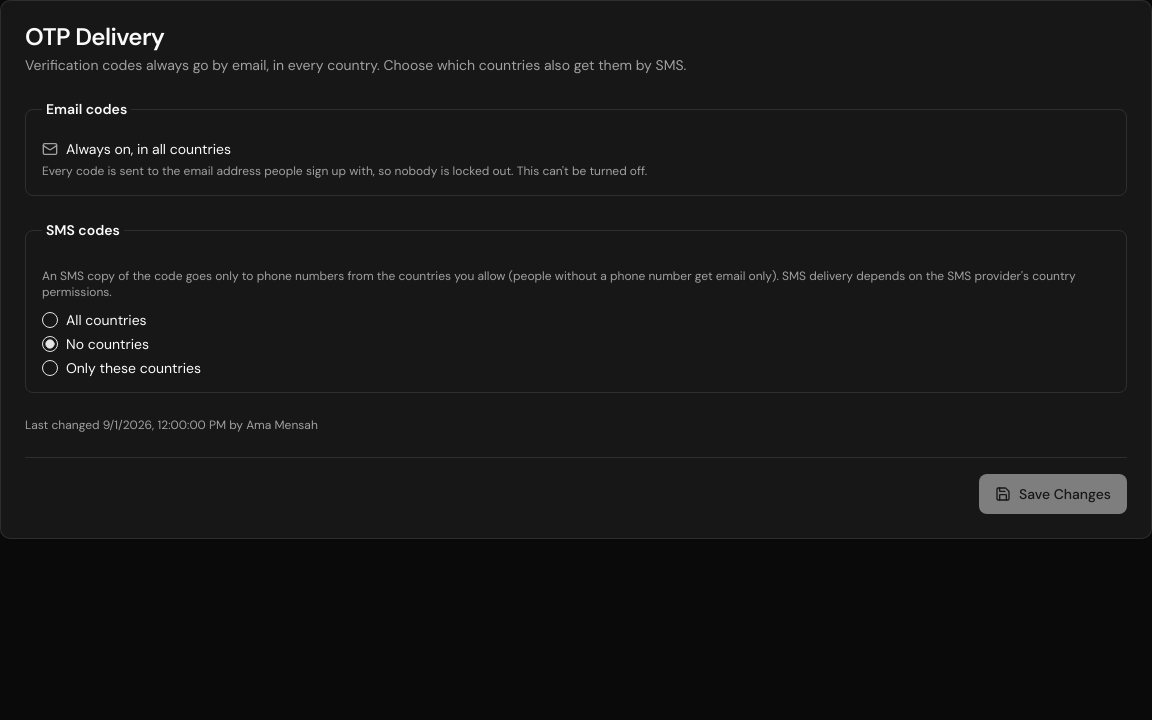
Test: OtpDeliverySettingsCard › saves an SMS change and always sends email ALL
This screenshot has width=1152, height=720.
Later steps or results of the test are not shown.
Expected: the text "Last changed 9/1/2026, 12:00:00 PM by Ama Mensah" is shown, [25, 417, 318, 433]
Click the radio button named "only these countries" next to "Only these countries" at {"x": 50, "y": 368}, box [42, 360, 58, 376]
(page scrolled)
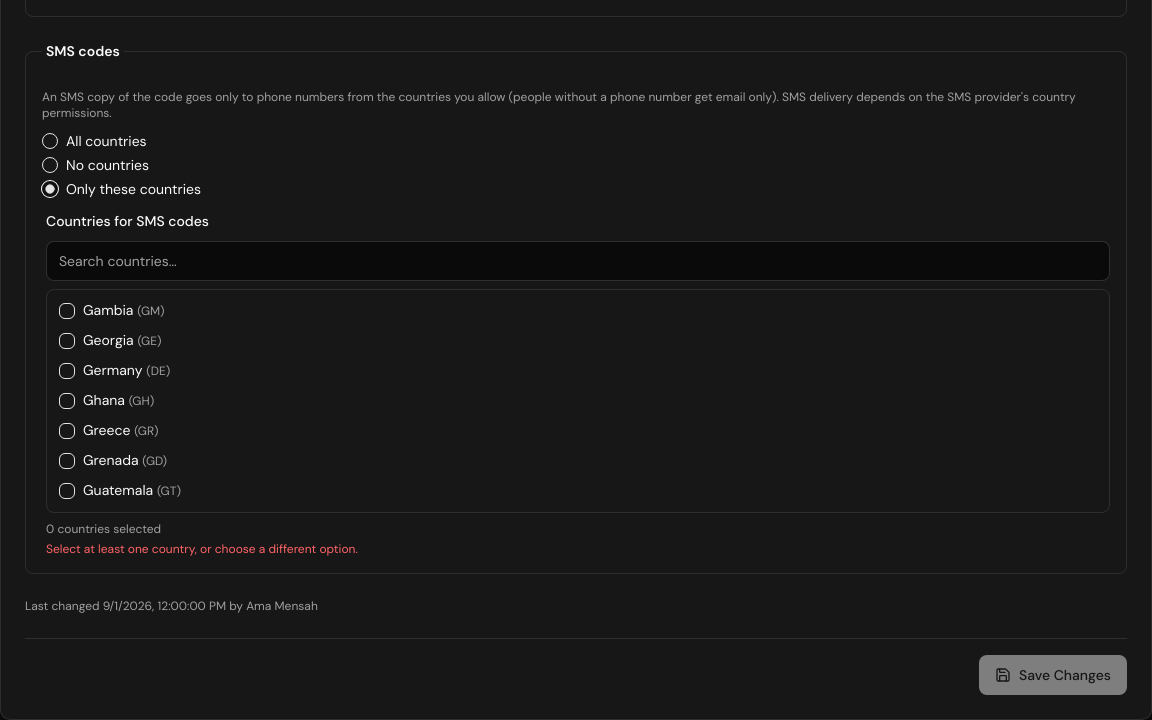
Click the checkbox named "ghana" next to "Ghana" at {"x": 67, "y": 401}, box [59, 393, 75, 409]
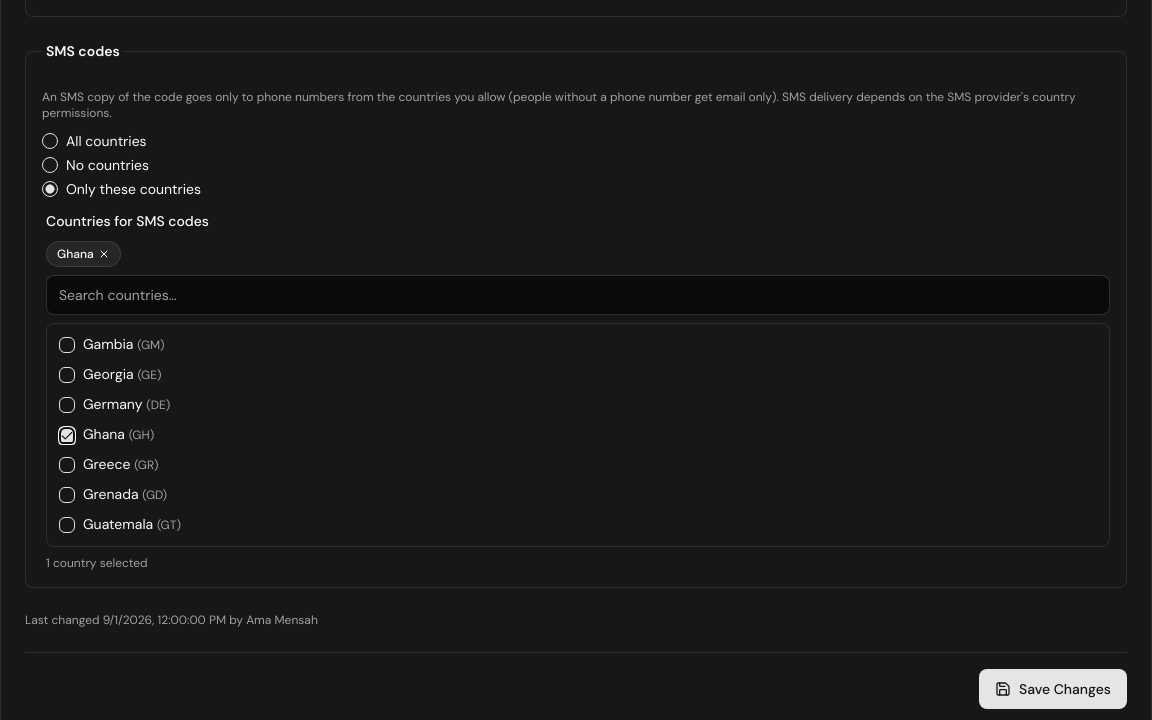
Result: the button "Save Changes" is enabled at [979, 669, 1127, 709]
